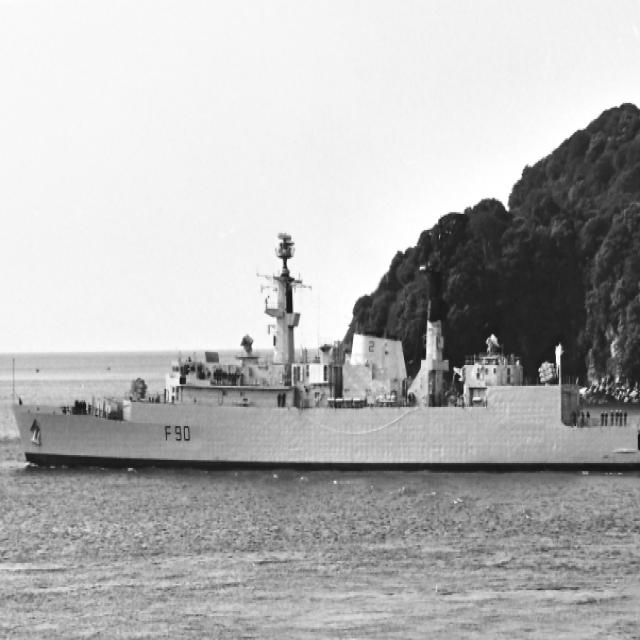Fragata: (9, 205, 640, 483)
